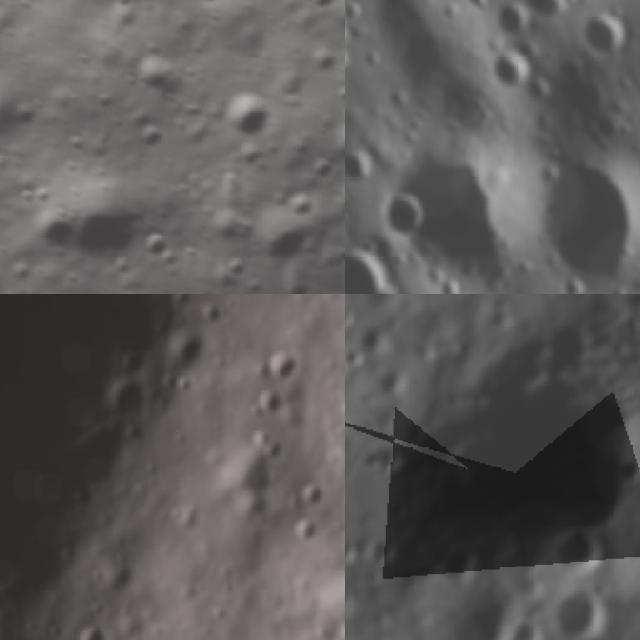crater: (0, 294, 184, 619), (435, 373, 635, 535), (381, 139, 517, 294), (528, 142, 640, 284), (60, 179, 165, 284), (205, 72, 289, 155), (244, 200, 325, 281), (18, 198, 91, 271), (436, 580, 522, 640), (539, 583, 604, 640), (130, 215, 185, 272), (129, 111, 180, 164), (580, 8, 632, 59), (381, 187, 424, 246), (554, 526, 604, 576), (345, 247, 398, 294), (486, 45, 534, 89), (365, 436, 407, 483), (261, 342, 300, 391), (364, 360, 406, 405), (490, 4, 536, 41), (324, 111, 345, 191), (358, 318, 388, 358), (520, 0, 568, 24), (345, 148, 373, 185), (372, 536, 401, 568), (527, 73, 556, 104), (345, 0, 370, 24), (430, 277, 465, 294), (345, 531, 355, 574), (345, 45, 353, 79)
